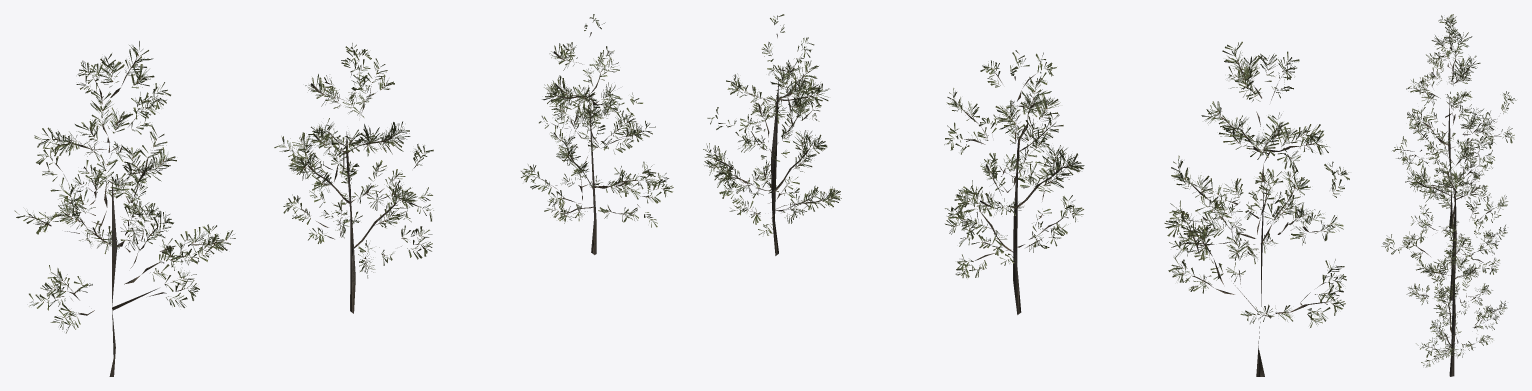
The model's file is scenery_pine_sapling_small.glb.
3 renders of one model, left to right at view 1: azimuth 30°, elevation 25°; view 2: azimuth 150°, elevation 25°; view 3: azimuth 270°, elevation 25°, orthographic. The views are drawn at different scales.
Parts seen in each view (by area): view 1: pine_sapling_small_a, pine_sapling_small_b, pine_sapling_small_c; view 2: pine_sapling_small_a, pine_sapling_small_b, pine_sapling_small_c; view 3: pine_sapling_small_a, pine_sapling_small_b, pine_sapling_small_c.
Boxes of the visible parts, x1,y1,x2,y2 form: pine_sapling_small_a: (14,41,235,376); pine_sapling_small_b: (274,43,433,313); pine_sapling_small_c: (521,14,673,254); pine_sapling_small_a: (1164,41,1349,376); pine_sapling_small_b: (944,50,1084,314); pine_sapling_small_c: (703,14,841,255); pine_sapling_small_a: (1392,14,1516,228); pine_sapling_small_b: (1381,133,1508,300); pine_sapling_small_c: (1406,224,1507,376).
Bounding box in the file's own units: 2.62 × 1.29 × 0.7677.
Materials: 2 (2 with a texture image).
